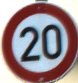20 km speed: (1, 1, 78, 82)
